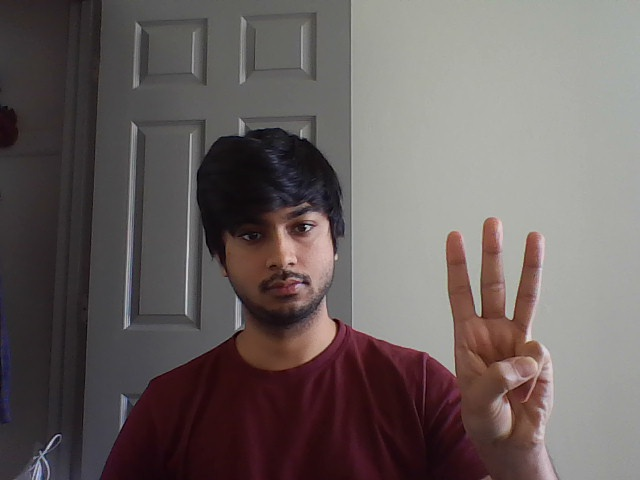three: (438, 214, 554, 352)
